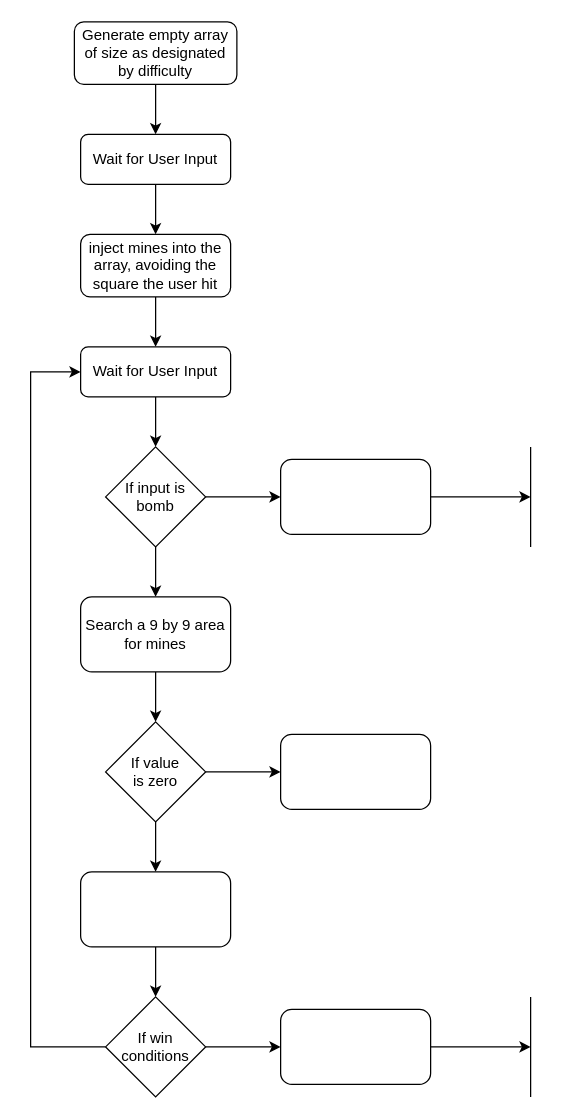
This 563x1120 diagram has some shape labels left out. Here are the shapes that lost their labels. From the top down, the box of each, then its label:
(279, 458, 431, 534): Go to game over state
(279, 733, 431, 809): run this script on all 8 surrounding tiles
(79, 871, 231, 947): Set square value to that value and display it
(279, 1008, 431, 1084): Go to win state
